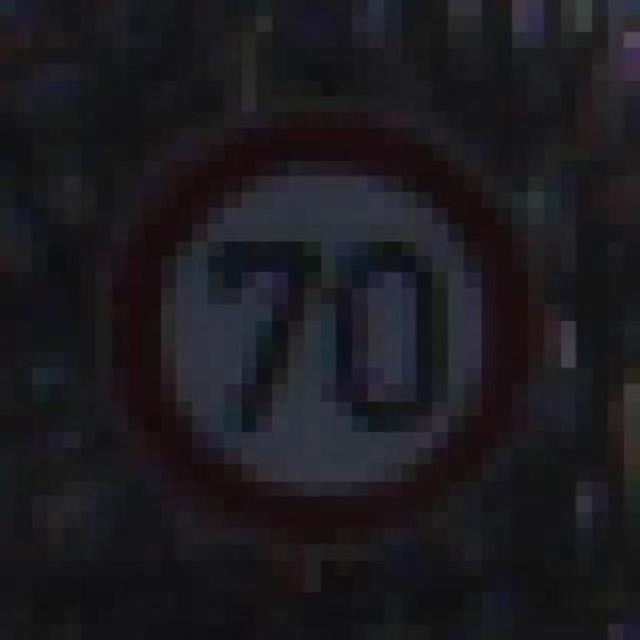forb_speed_over_70: (118, 119, 537, 542)
